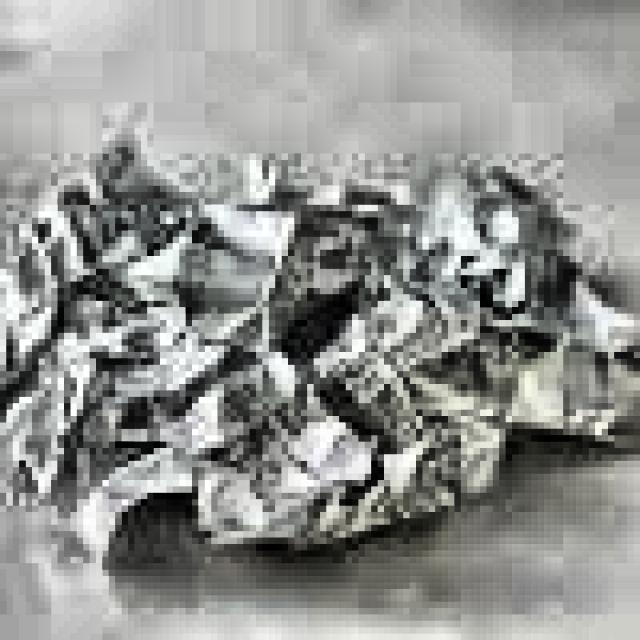Foil: (0, 128, 640, 582)
